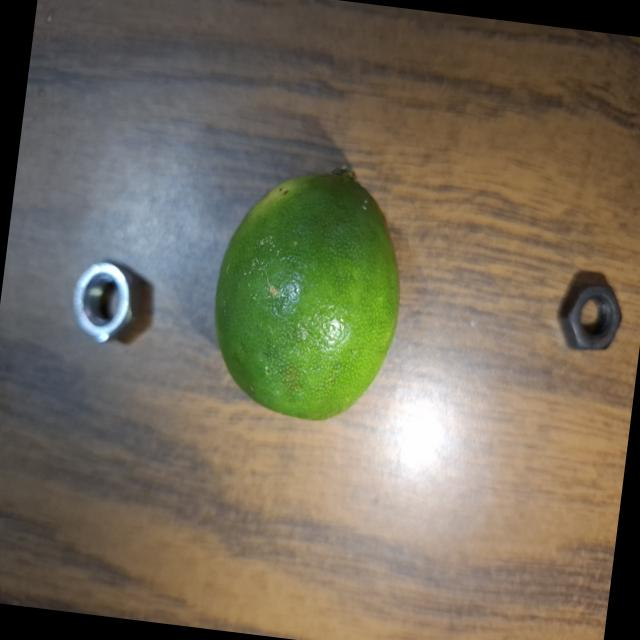limon: (199, 149, 417, 430)
milimetrico: (542, 270, 632, 367)
tuerca: (65, 252, 144, 354)
